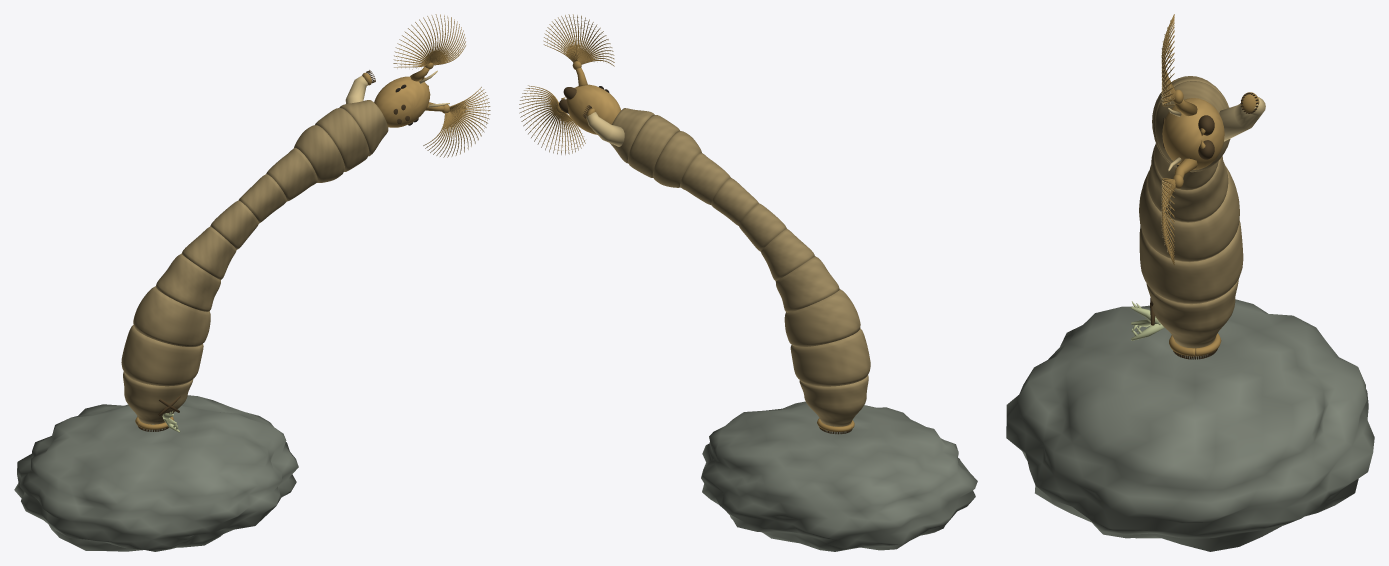
The model's file is Simulium_animat.glb.
The picture shows the model from 3 angles, left to right: view 1: azimuth 30°, elevation 25°; view 2: azimuth 150°, elevation 25°; view 3: azimuth 270°, elevation 25°; orthographic projection. The views are drawn at different scales.
Parts seen in each view (by area): view 1: Roca_de_fixacio, abdomen_07.001, abdomen_06.001, abdomen_05.001, ventall_E, cap.002, abdomen_08.001, ventall_D, torax_2.001, torax_3.001, abdomen_04.001, abdomen_01.001 (+3 smaller); view 2: Roca_de_fixacio, abdomen_07.001, abdomen_06.001, abdomen_08.001, abdomen_05.001, ventall_E, ventall_D, torax_2.001, torax_3.001, abdomen_04.001, cap.002, abdomen_01.001 (+4 smaller); view 3: Roca_de_fixacio, abdomen_07.001, abdomen_06.001, abdomen_08.001, cap.002, abdomen_05.001, torax_1.001, pseudopodi_toracic, ventall_D, ventall_E, abdomen_04.001, corona_posterior (+2 smaller).
Part boxes in pixels (x1,y1,x2,y2): Roca_de_fixacio: (14,395,298,551); abdomen_07.001: (121,325,203,386); abdomen_06.001: (133,286,210,346); abdomen_05.001: (155,254,220,311); ventall_E: (393,14,465,81); cap.002: (374,76,430,127); abdomen_08.001: (123,371,193,424); ventall_D: (423,87,490,157); torax_2.001: (315,108,369,171); torax_3.001: (294,125,344,182); abdomen_04.001: (181,226,236,279); abdomen_01.001: (266,148,317,201); Roca_de_fixacio: (701,401,977,551); abdomen_07.001: (790,328,870,386); abdomen_06.001: (784,289,860,346); abdomen_08.001: (799,375,868,426); abdomen_05.001: (775,256,839,312); ventall_E: (543,14,614,86); ventall_D: (519,85,585,154); torax_2.001: (627,115,679,177); torax_3.001: (652,131,701,187); abdomen_04.001: (761,228,814,280); cap.002: (566,84,621,134); abdomen_01.001: (680,152,730,204); Roca_de_fixacio: (1006,299,1374,551); abdomen_07.001: (1139,220,1243,304); abdomen_06.001: (1139,166,1239,262); abdomen_08.001: (1146,279,1238,348); cap.002: (1162,98,1224,169); abdomen_05.001: (1147,143,1228,222); torax_1.001: (1155,81,1229,171); pseudopodi_toracic: (1219,92,1265,141); ventall_D: (1161,158,1197,265); ventall_E: (1161,14,1197,115); abdomen_04.001: (1154,144,1218,190); corona_posterior: (1169,333,1221,359).
Bounding box in the file's own units: 11.16 × 10.69 × 5.21.
